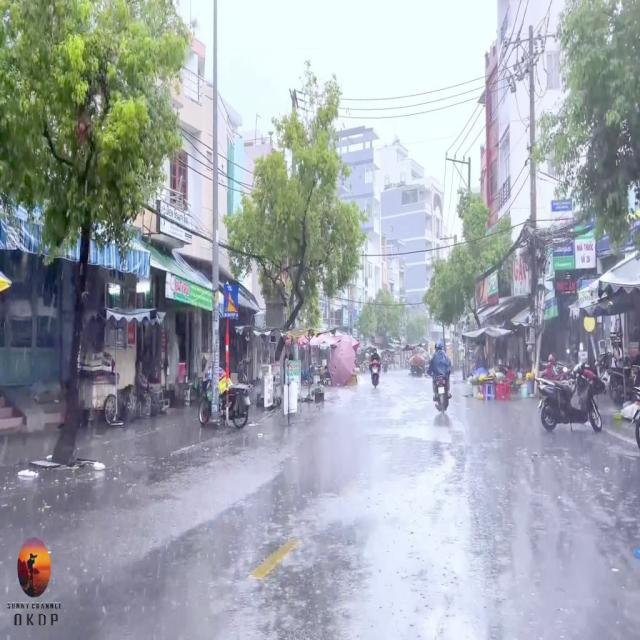khac: (224, 282, 238, 319)
